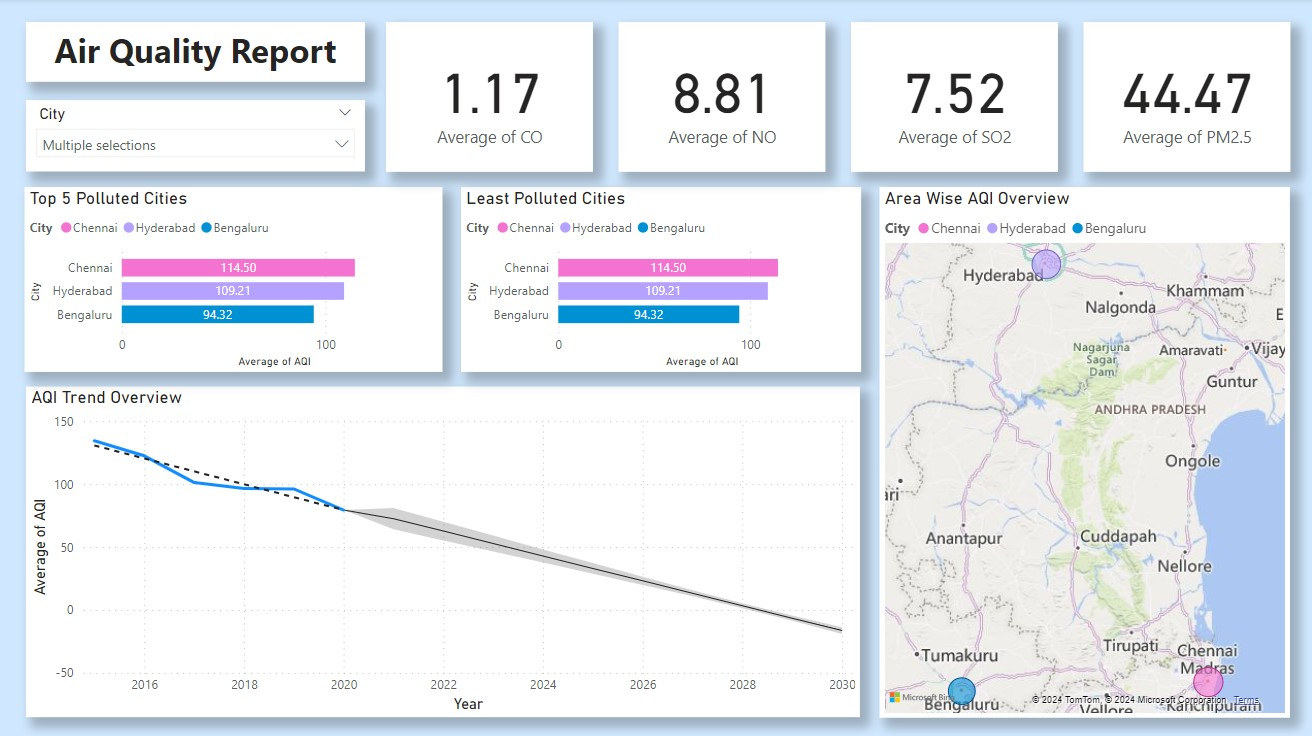

The dashboard page shown, as its layout file describes it:
{"tool":"powerbi","page":{"name":"Page 1","canvas":[1280,720],"ordinal":0},"visuals":[{"type":"lineChart","title":"AQI Trend Overview","fields":{"Category":["city_day.Date.Variation.Date Hierarchy.Year","city_day.Date.Variation.Date Hierarchy.Quarter","city_day.Date.Variation.Date Hierarchy.Month","city_day.Date.Variation.Date Hierarchy.Day"],"Y":["Avg(city_day.AQI)"]},"box":[25.9,377,809,320.4],"z":0},{"type":"slicer","fields":{"Values":["city_day.City"]},"box":[25.9,98.7,328.4,69.6],"z":1000},{"type":"barChart","title":"Top 5 Polluted Cities","fields":{"Category":["city_day.City"],"Y":["Avg(city_day.AQI)"],"Series":["city_day.City"]},"box":[25.4,183.1,405.1,179.7],"z":2000},{"type":"barChart","title":"Least Polluted Cities","fields":{"Category":["city_day.City"],"Y":["Avg(city_day.AQI)"],"Series":["city_day.City"]},"box":[447.5,183.1,388.1,179.7],"z":3000},{"type":"card","fields":{"Values":["Avg(city_day.CO)"]},"box":[375.4,22.7,200.6,145.6],"z":4000},{"type":"card","fields":{"Values":["Avg(city_day.NO)"]},"box":[600.8,22.7,200.6,145.6],"z":5000},{"type":"card","fields":{"Values":["Avg(city_day.SO2)"]},"box":[826.2,22.7,200.6,145.6],"z":6000},{"type":"card","fields":{"Values":["Avg(city_day.PM2.5)"]},"box":[1051.7,22.7,200.6,145.6],"z":7000},{"type":"map","title":"Area Wise AQI Overview","fields":{"Category":["city_day.City"],"Size":["Avg(city_day.AQI)"],"Series":["city_day.City"]},"box":[854.3,182.8,398,514.5],"z":8000},{"type":"textbox","box":[25.9,22.7,328.4,58.2],"z":9000}]}

Visuals, with their boxes in screenshot pixels (x1, y1, x2, y2), scaled from the page's 1280x720 canvas onto the 1312x736 screenshot:
"AQI Trend Overview" lineChart: BBox(27, 385, 856, 713)
slicer - city_day.City: BBox(27, 101, 363, 172)
"Top 5 Polluted Cities" barChart: BBox(26, 187, 441, 371)
"Least Polluted Cities" barChart: BBox(459, 187, 856, 371)
card - Avg(city_day.CO): BBox(385, 23, 590, 172)
card - Avg(city_day.NO): BBox(616, 23, 821, 172)
card - Avg(city_day.SO2): BBox(847, 23, 1052, 172)
card - Avg(city_day.PM2.5): BBox(1078, 23, 1284, 172)
"Area Wise AQI Overview" map: BBox(876, 187, 1284, 713)
textbox: BBox(27, 23, 363, 83)
